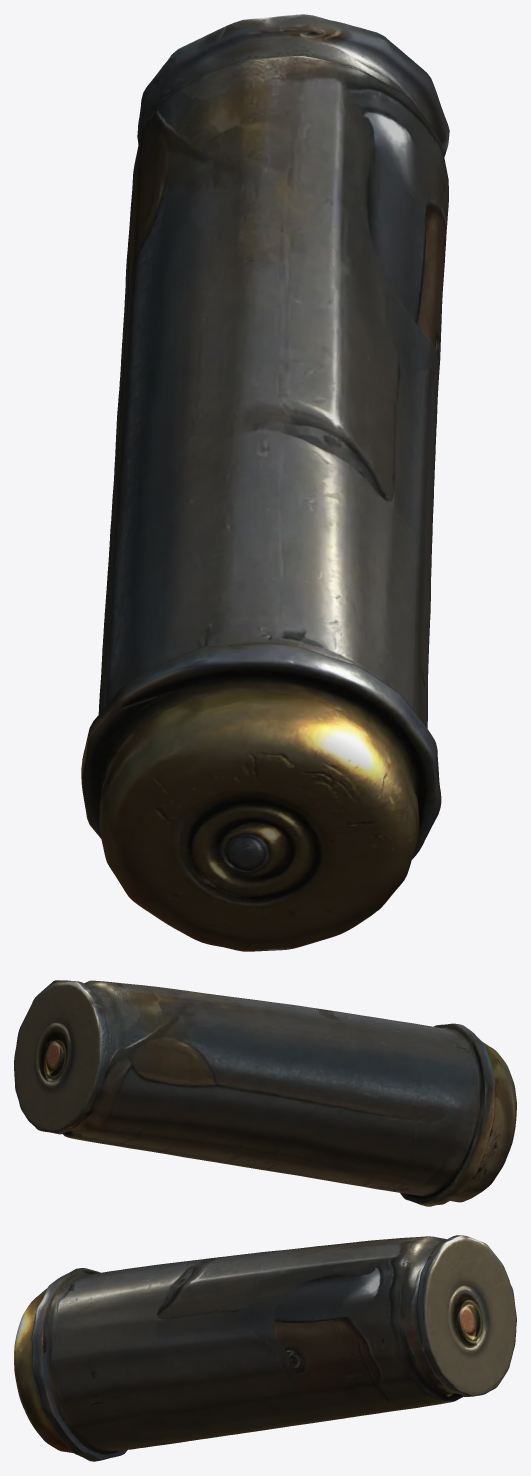
Rendered from bullet.glb.
3 views of the same model, one above another, from view 1: azimuth 30°, elevation 25°; view 2: azimuth 150°, elevation 25°; view 3: azimuth 270°, elevation 25° (orthographic). The views are drawn at different scales.
Bounding box in the file's own units: 1.58 × 1.33 × 2.
1 material, 1 textured.
